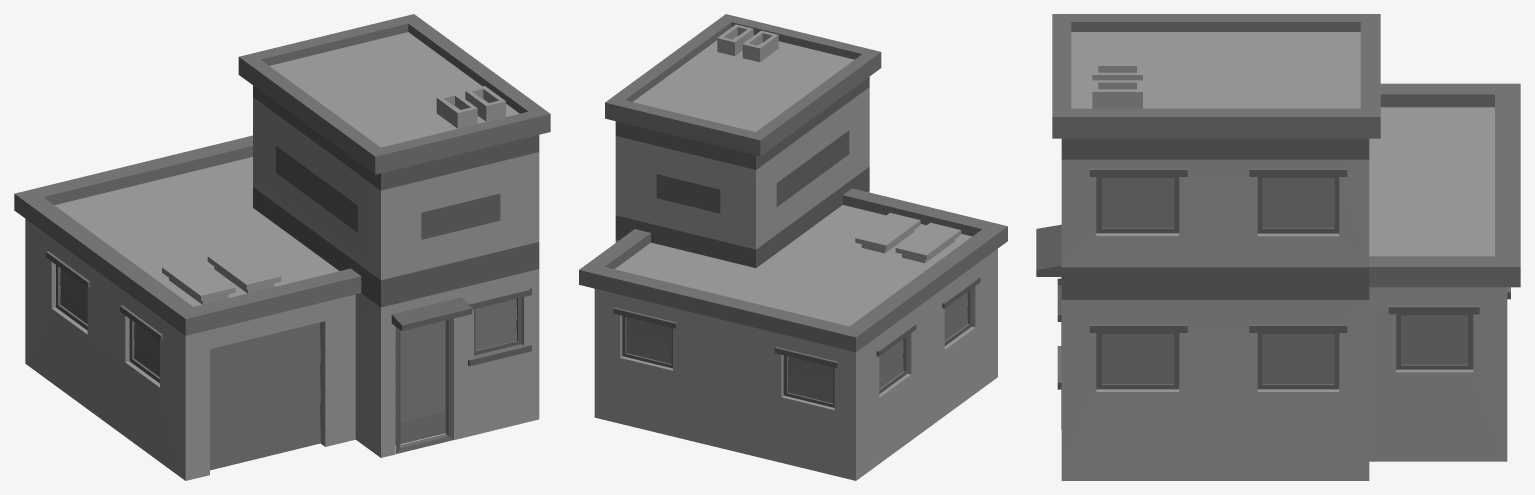
File: building_1_1_1_9.glb
The picture shows the model from 3 angles, left to right: view 1: azimuth 30°, elevation 25°; view 2: azimuth 150°, elevation 25°; view 3: azimuth 270°, elevation 25°; orthographic projection. The views are drawn at different scales.
Parts seen in each view (by area): view 1: building_1_1_1_9; view 2: building_1_1_1_9; view 3: building_1_1_1_9.
Part boxes in pixels (bbox=[...]): building_1_1_1_9: bbox=[14, 14, 550, 480]; building_1_1_1_9: bbox=[579, 14, 1007, 480]; building_1_1_1_9: bbox=[1036, 14, 1520, 480].
Bounding box in the file's own units: 14.83 × 13.03 × 15.15.
Materials: 1 (1 with a texture image).
